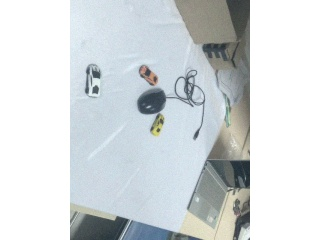box: (168, 1, 250, 44)
mouse: (137, 89, 166, 114)
toy_car: (138, 61, 159, 87), (85, 64, 101, 98), (151, 114, 165, 136)
